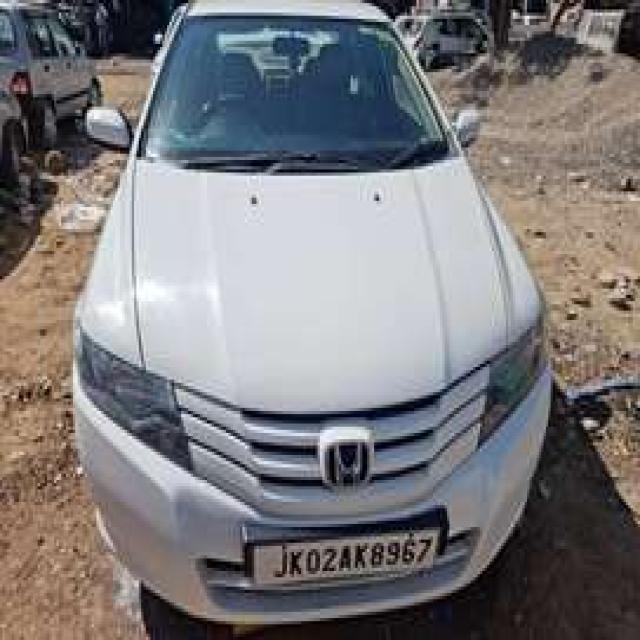plate: (247, 526, 439, 589)
